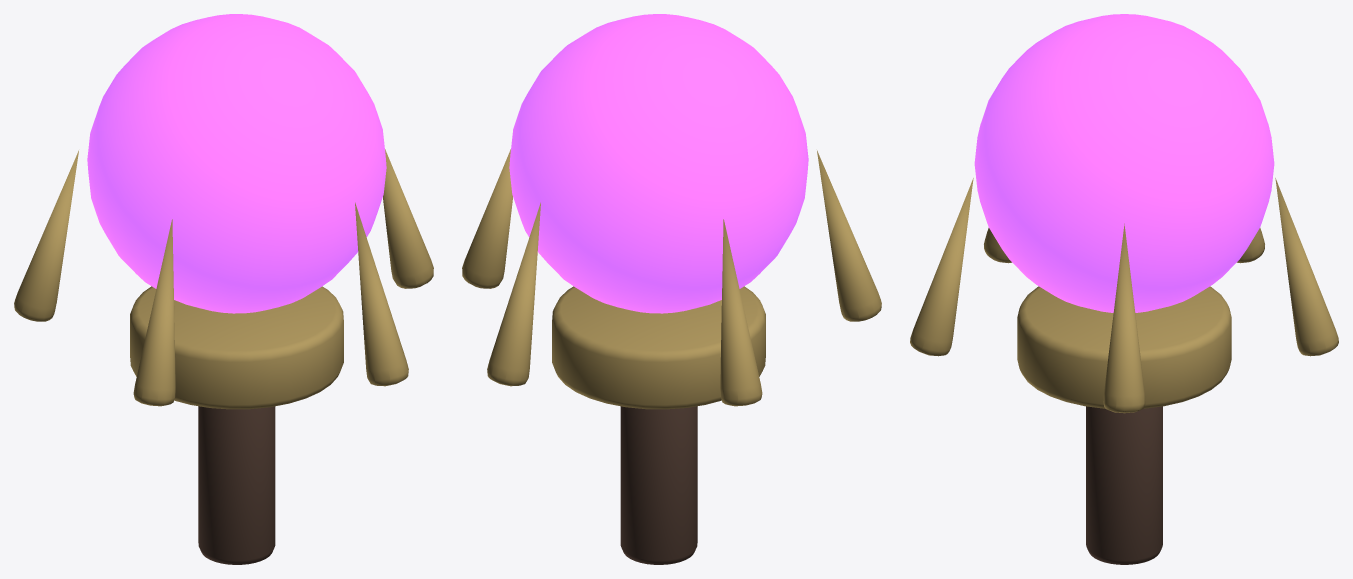
The model's file is orb_2.glb.
3 views of the same model, side by side, from view 1: azimuth 30°, elevation 25°; view 2: azimuth 150°, elevation 25°; view 3: azimuth 270°, elevation 25° (orthographic).
Parts seen in each view (by area): view 1: orb_2; view 2: orb_2; view 3: orb_2.
Boxes of the visible parts, x1,y1,x2,y2 form: orb_2: (14,14,433,564); orb_2: (462,14,881,564); orb_2: (910,14,1338,564).
Size of the model in its own units: 0.1842 by 0.26 by 0.1929.
